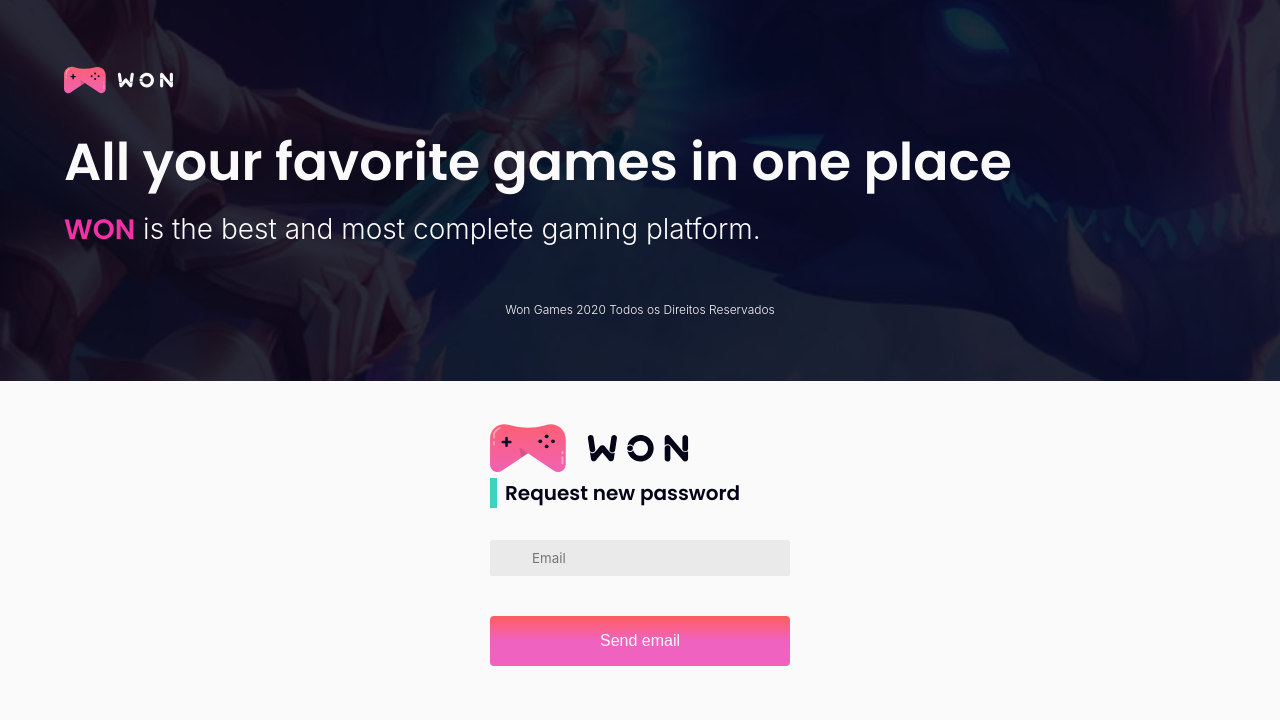
Test: Forgot Password › should be able fill the input and revice a success message
Type "user01@example.com" into the field with placeholder "Email" at (652, 558), box x1=532 y1=542 x2=772 y2=574
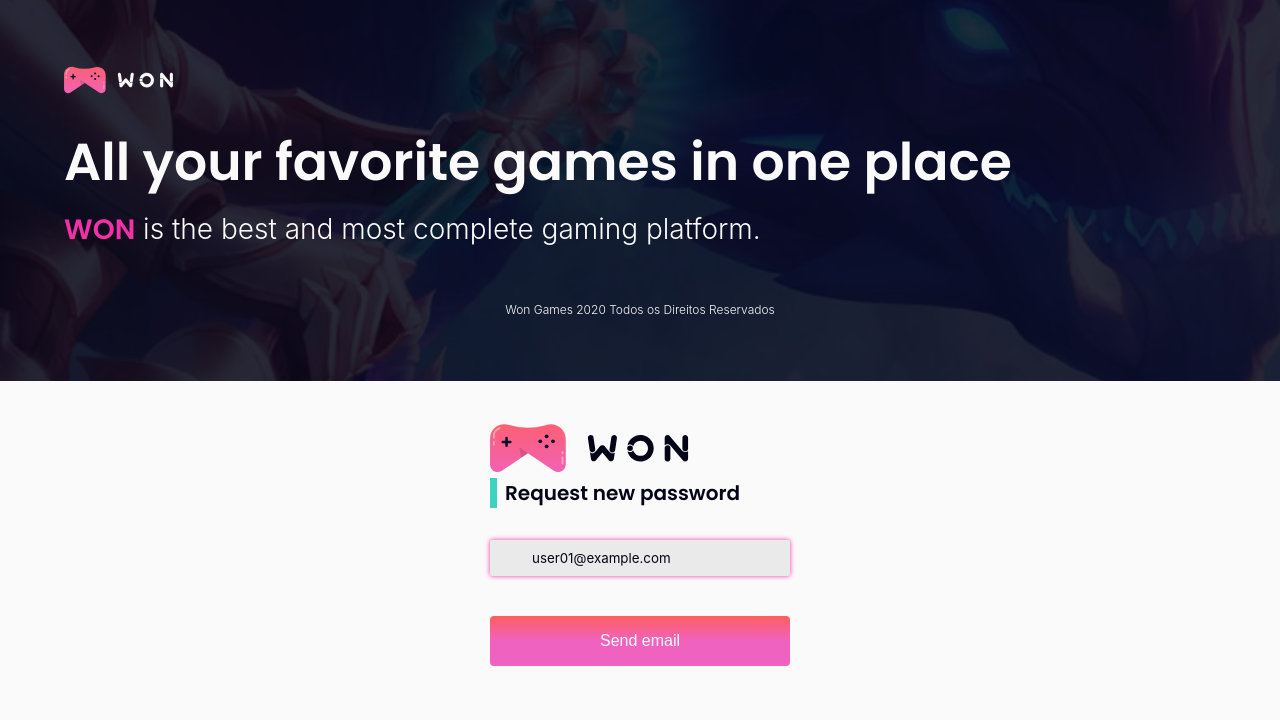
Click the button "Send email" at (640, 641), box x1=490 y1=616 x2=790 y2=666
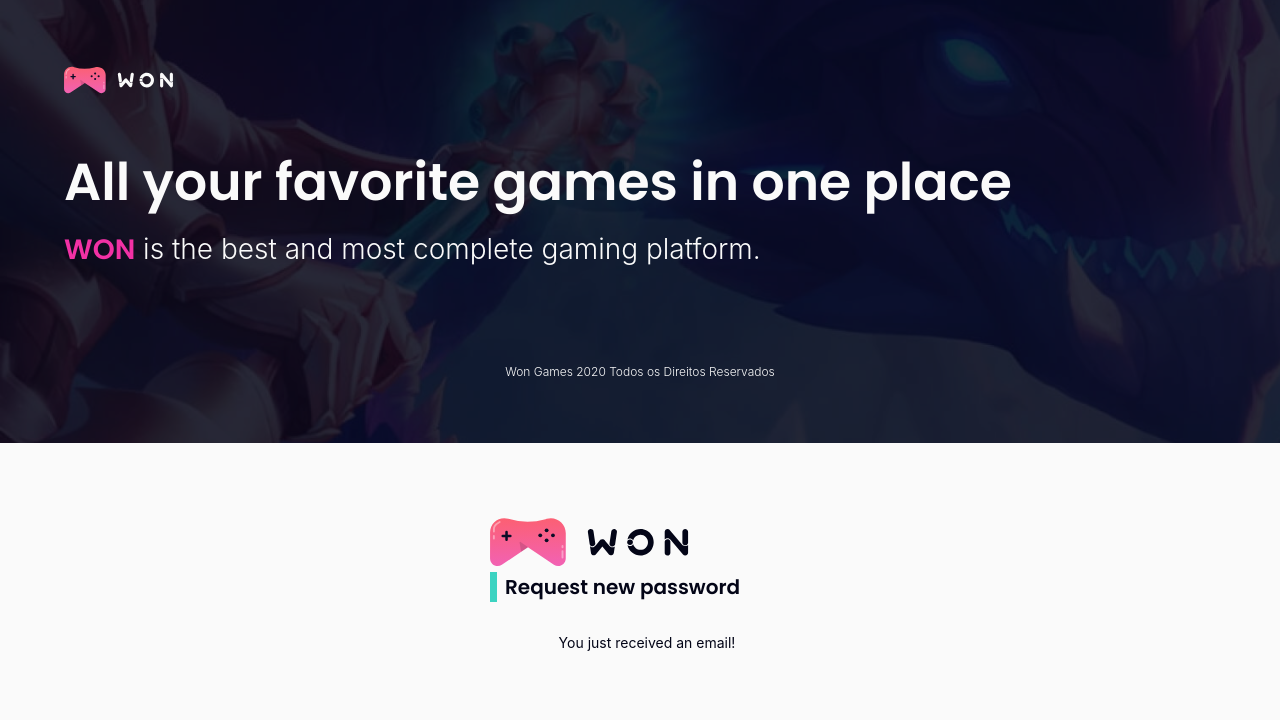
Check: the text "You just received an email!" is shown, box x1=559 y1=634 x2=735 y2=650
